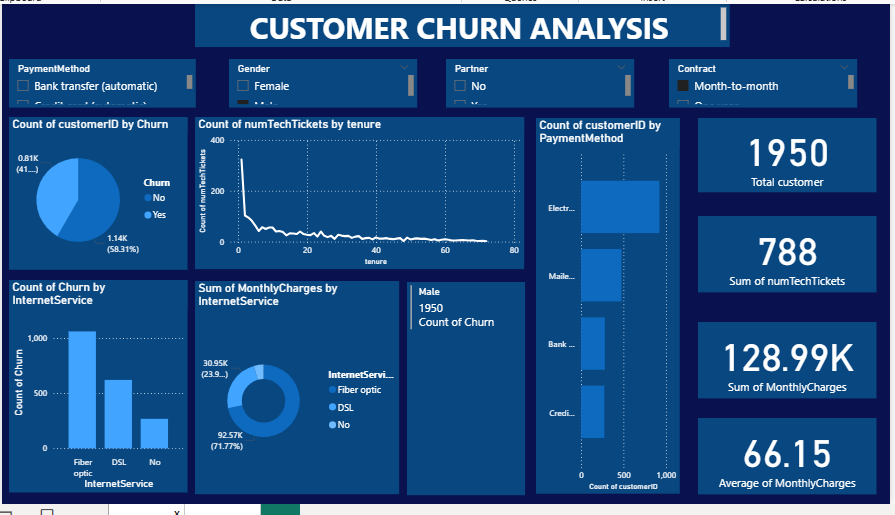

Layout of this report page (visuals, bound fields, positions):
{"tool":"powerbi","page":{"name":"Page 1","canvas":[1280,720],"ordinal":0},"visuals":[{"type":"pieChart","fields":{"Category":["01 Churn-Dataset.Churn"],"Y":["CountNonNull(01 Churn-Dataset.customerID)"]},"box":[10,162.9,257.1,220],"z":0},{"type":"lineChart","fields":{"Y":["CountNonNull(01 Churn-Dataset.numTechTickets)"],"Category":["01 Churn-Dataset.tenure"]},"box":[278.6,162.9,474.3,218.6],"z":1000},{"type":"slicer","fields":{"Values":["01 Churn-Dataset.PaymentMethod"]},"box":[10,78.6,268.6,70],"z":2000},{"type":"slicer","fields":{"Values":["01 Churn-Dataset.gender"]},"box":[327.1,78.6,271.4,70],"z":3000},{"type":"slicer","fields":{"Values":["01 Churn-Dataset.Partner"]},"box":[640,78.6,271.4,70],"z":4000},{"type":"slicer","fields":{"Values":["01 Churn-Dataset.Contract"]},"box":[960,78.6,271.4,70],"z":5000},{"type":"card","fields":{"Values":["01 Churn-Dataset.Total customer"]},"box":[1002.9,164.3,257.1,107.1],"z":6000},{"type":"barChart","fields":{"Category":["01 Churn-Dataset.PaymentMethod"],"Y":["CountNonNull(01 Churn-Dataset.customerID)"]},"box":[768.6,164.3,207.1,541.4],"z":7000},{"type":"card","fields":{"Values":["Sum(01 Churn-Dataset.numTechTickets)"]},"box":[1002.9,305.7,257.1,110],"z":8000},{"type":"card","fields":{"Values":["Sum(01 Churn-Dataset.MonthlyCharges)"]},"box":[1002.9,458.6,257.1,110],"z":9000},{"type":"card","fields":{"Values":["Avg(01 Churn-Dataset.MonthlyCharges)"]},"box":[1002.9,595.7,257.1,110],"z":10000},{"type":"columnChart","fields":{"Category":["01 Churn-Dataset.InternetService"],"Y":["CountNonNull(01 Churn-Dataset.Churn)"]},"box":[9.7,398.1,257,306.4],"z":11000},{"type":"donutChart","fields":{"Category":["01 Churn-Dataset.InternetService"],"Y":["Sum(01 Churn-Dataset.MonthlyCharges)"]},"box":[278.6,398.6,294.3,307.1],"z":12000},{"type":"multiRowCard","fields":{"Values":["01 Churn-Dataset.gender","01 Churn-Dataset.Churn"]},"box":[582.9,400,170,307.1],"z":13000},{"type":"textbox","box":[278.6,0,769.8,61.7],"z":14000}]}

Visuals, with their boxes on the page's 1280x720 design canvas (x1, y1, x2, y2). These are canvas units, not pixel positions in the 895x515 screenshot, which may show the page scaled, cropped or inside an application window:
pieChart - 01 Churn-Dataset.Churn x CountNonNull(01 Churn-Dataset.customerID): [left=10, top=163, right=267, bottom=383]
lineChart - CountNonNull(01 Churn-Dataset.numTechTickets) x 01 Churn-Dataset.tenure: [left=279, top=163, right=753, bottom=382]
slicer - 01 Churn-Dataset.PaymentMethod: [left=10, top=79, right=279, bottom=149]
slicer - 01 Churn-Dataset.gender: [left=327, top=79, right=598, bottom=149]
slicer - 01 Churn-Dataset.Partner: [left=640, top=79, right=911, bottom=149]
slicer - 01 Churn-Dataset.Contract: [left=960, top=79, right=1231, bottom=149]
card - 01 Churn-Dataset.Total customer: [left=1003, top=164, right=1260, bottom=271]
barChart - 01 Churn-Dataset.PaymentMethod x CountNonNull(01 Churn-Dataset.customerID): [left=769, top=164, right=976, bottom=706]
card - Sum(01 Churn-Dataset.numTechTickets): [left=1003, top=306, right=1260, bottom=416]
card - Sum(01 Churn-Dataset.MonthlyCharges): [left=1003, top=459, right=1260, bottom=569]
card - Avg(01 Churn-Dataset.MonthlyCharges): [left=1003, top=596, right=1260, bottom=706]
columnChart - 01 Churn-Dataset.InternetService x CountNonNull(01 Churn-Dataset.Churn): [left=10, top=398, right=267, bottom=704]
donutChart - 01 Churn-Dataset.InternetService x Sum(01 Churn-Dataset.MonthlyCharges): [left=279, top=399, right=573, bottom=706]
multiRowCard - 01 Churn-Dataset.gender x 01 Churn-Dataset.Churn: [left=583, top=400, right=753, bottom=707]
textbox: [left=279, top=0, right=1048, bottom=62]
